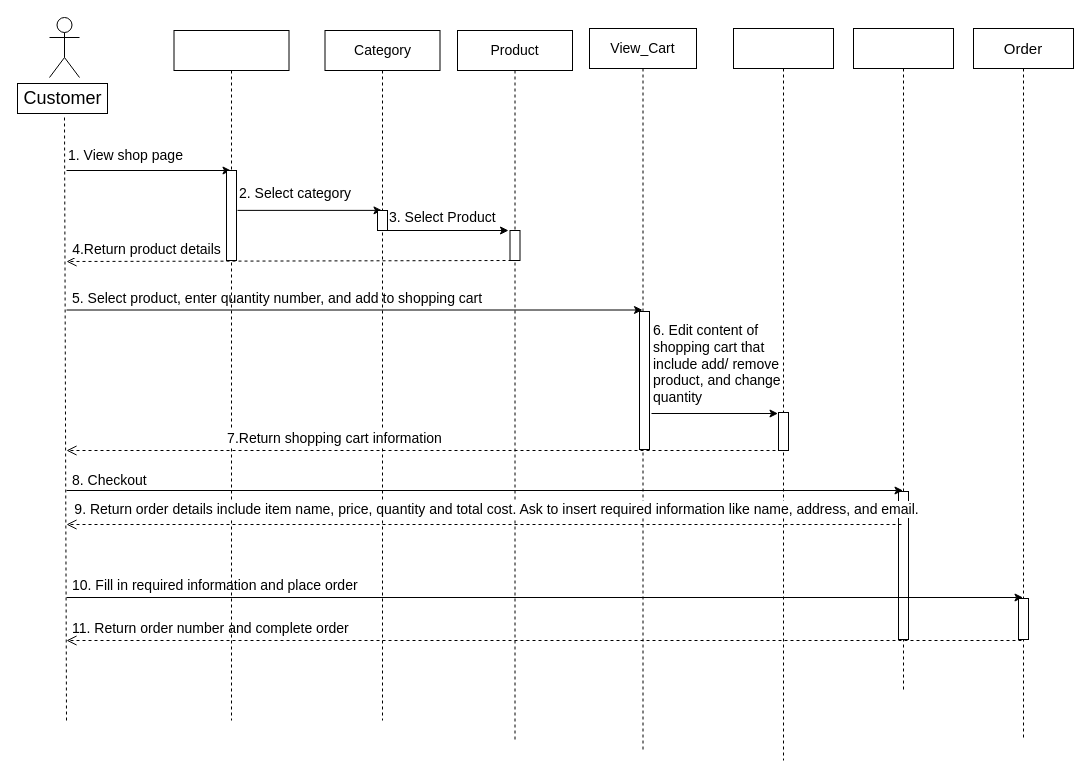
The diagram is 1091 pixels wide and 778 high, and some of its shapes have lost their labels. Each missing label, with the box of its shape:
Cart: (732, 28, 834, 760)
View_Orders: (852, 28, 954, 690)
View_Shop: (173, 30, 289, 720)
